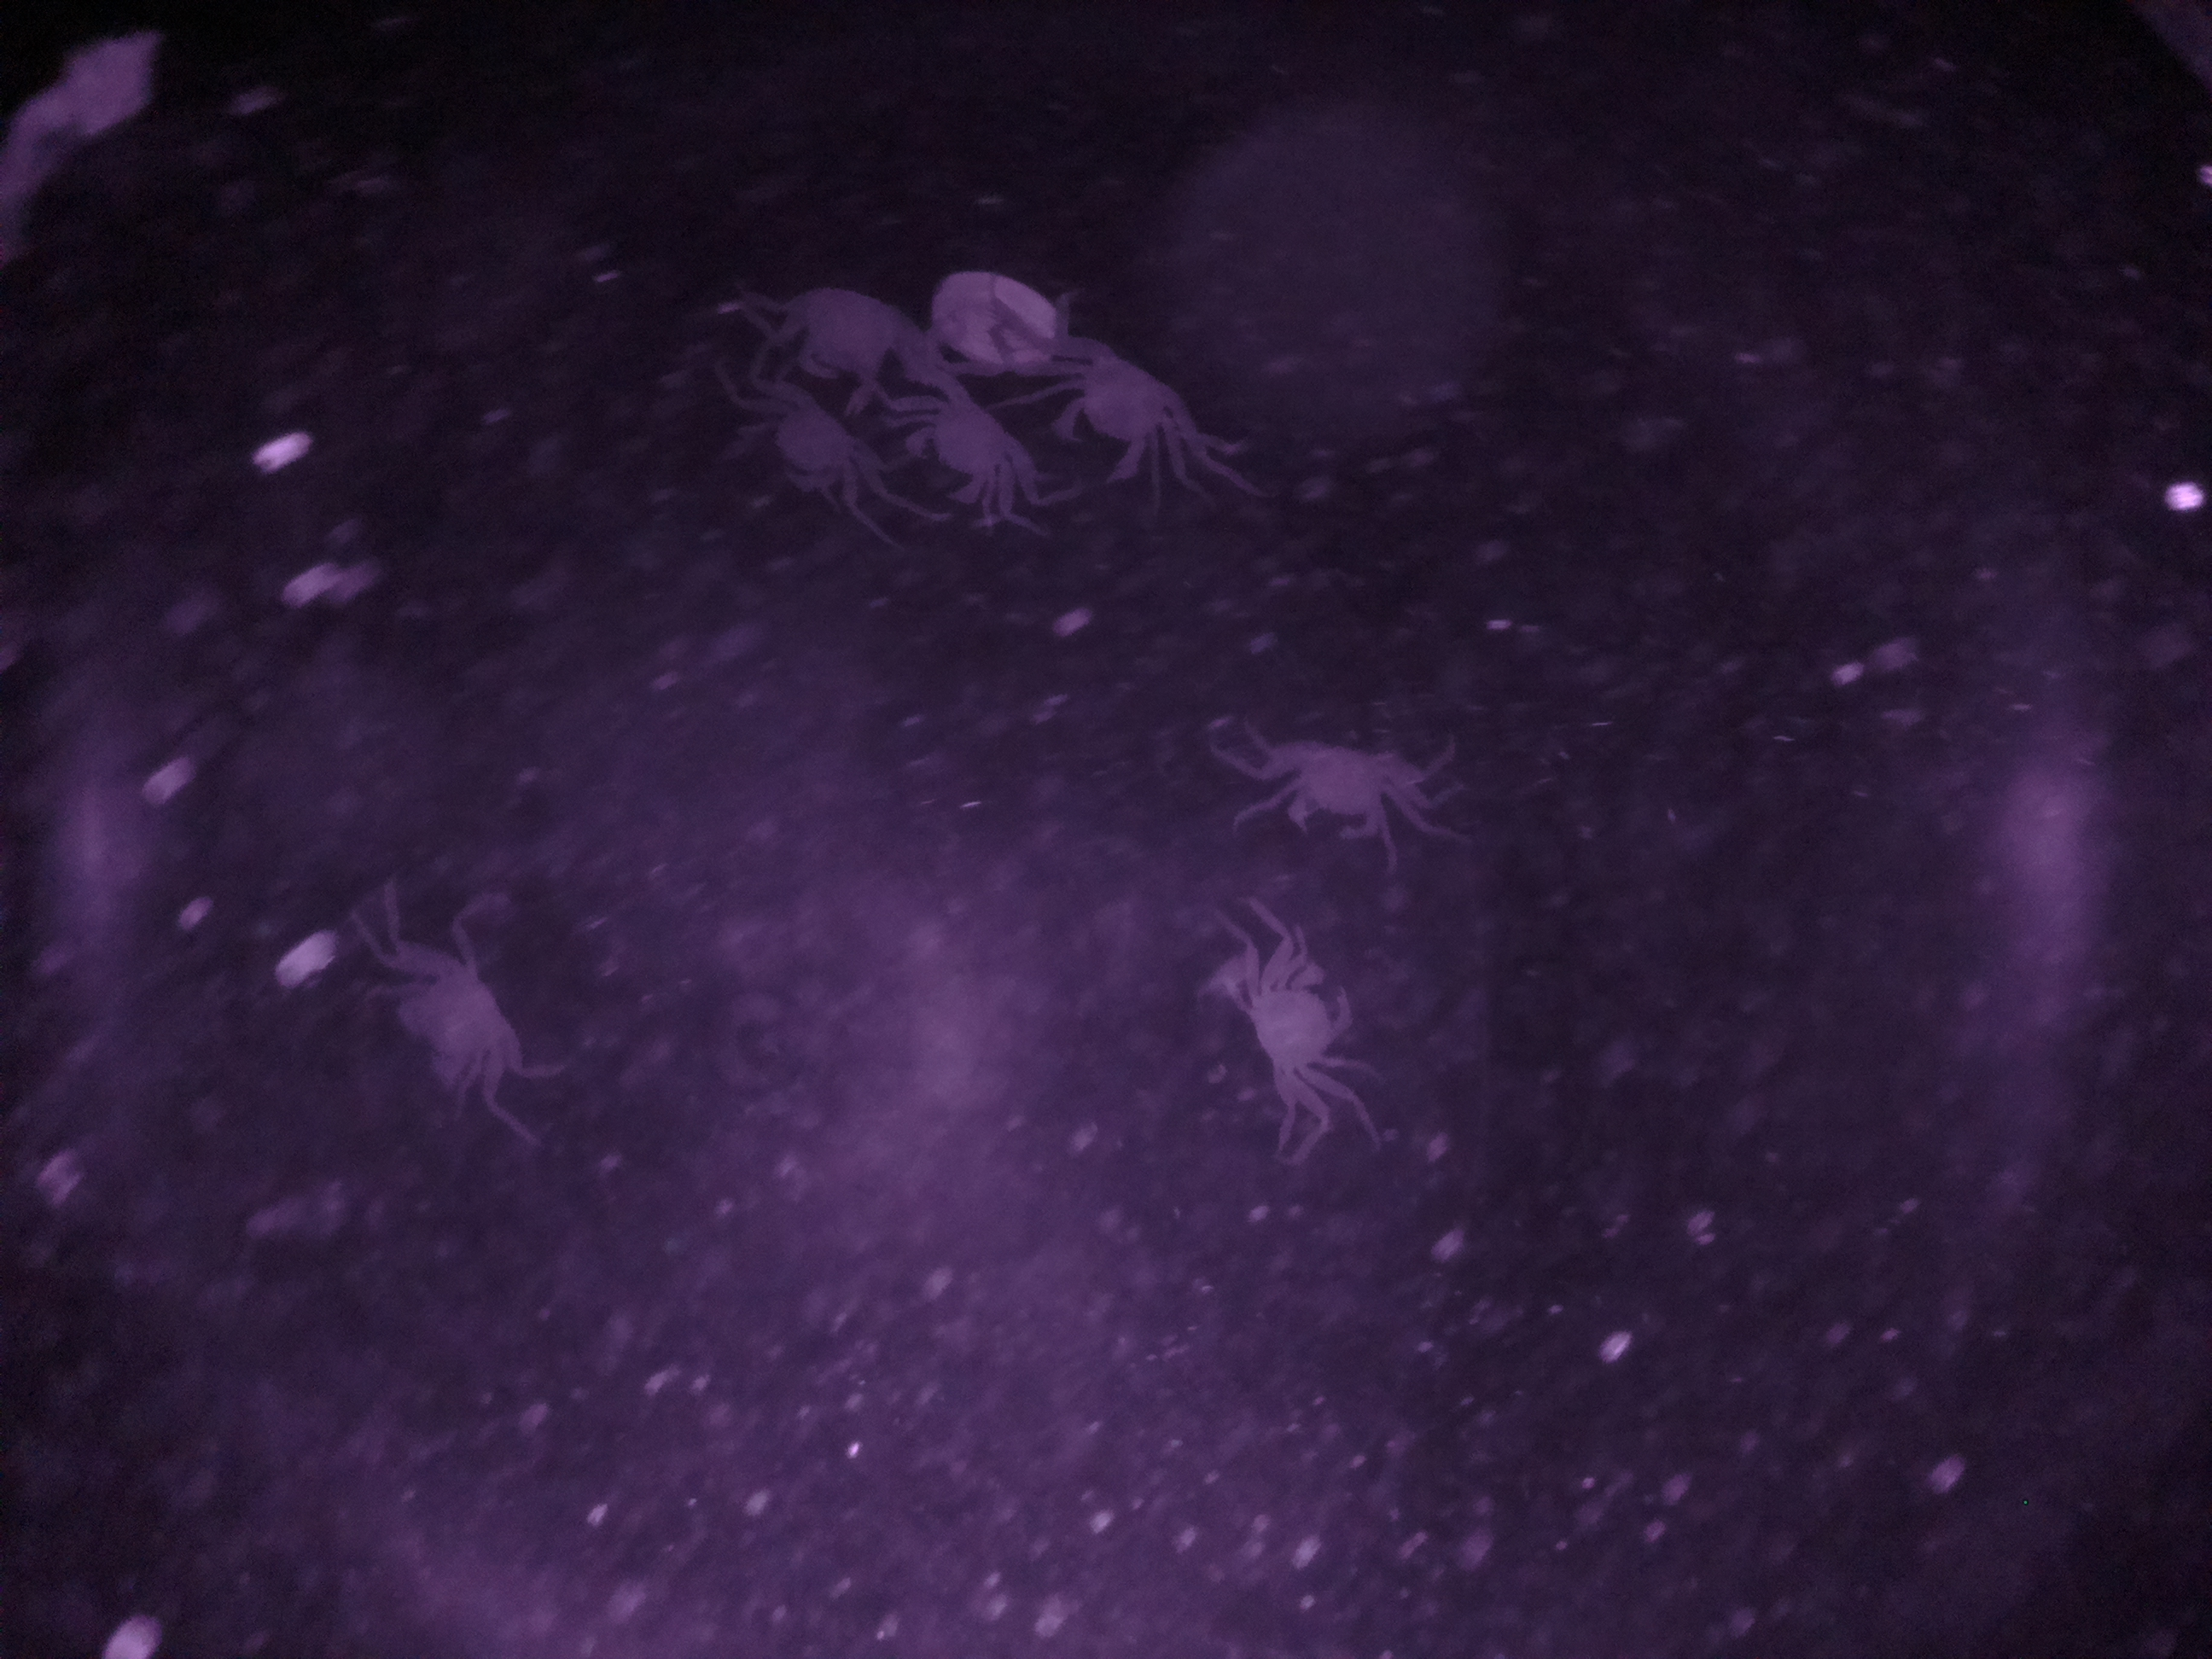Crab: (1198, 903, 1385, 1159), (361, 896, 561, 1133), (1003, 331, 1223, 497)
